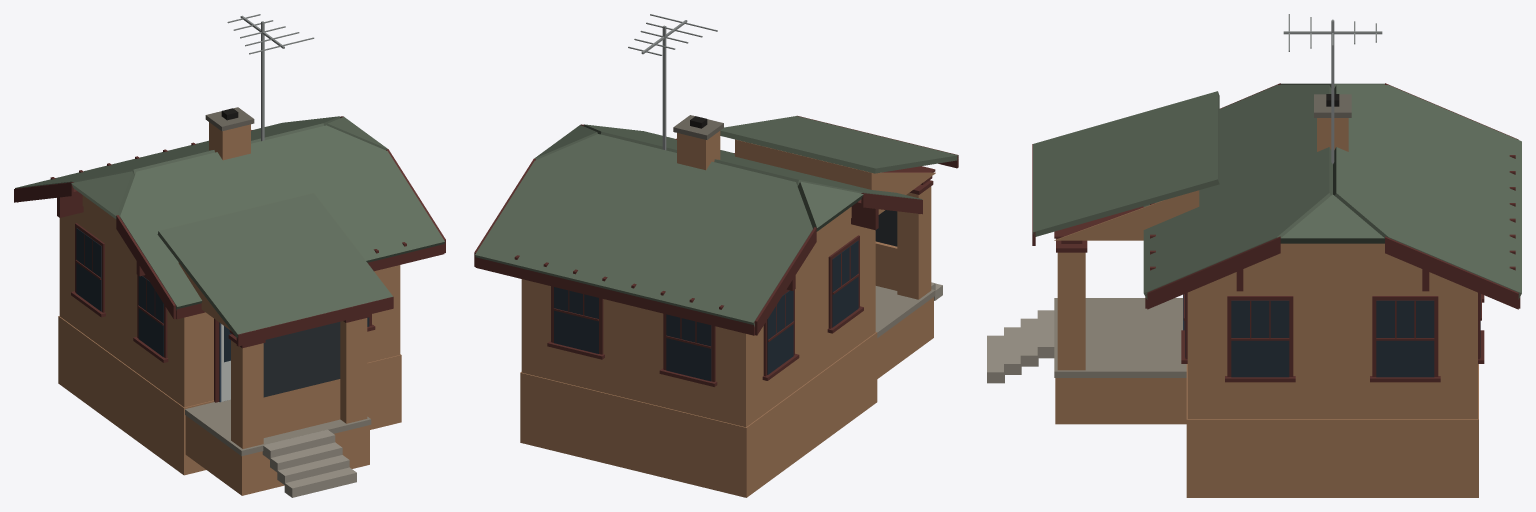
File: brick-cottage-0001.glb
The picture shows the model from 3 angles, left to right: view 1: azimuth 30°, elevation 25°; view 2: azimuth 150°, elevation 25°; view 3: azimuth 270°, elevation 25°; orthographic projection. The views are drawn at different scales.
Parts seen in each view (by area): view 1: kit-brick-cottage-0001; view 2: kit-brick-cottage-0001; view 3: kit-brick-cottage-0001.
Boxes of the visible parts, x1=… form: kit-brick-cottage-0001: x1=14, y1=14, x2=445, y2=497; kit-brick-cottage-0001: x1=474, y1=14, x2=958, y2=497; kit-brick-cottage-0001: x1=987, y1=14, x2=1521, y2=497.
Bounding box in the file's own units: 6.32 × 8.25 × 9.22.
